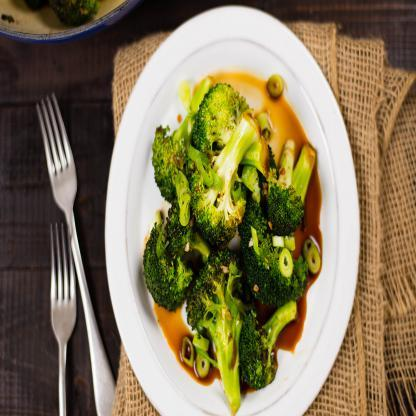broccoli: (142, 75, 316, 416)
